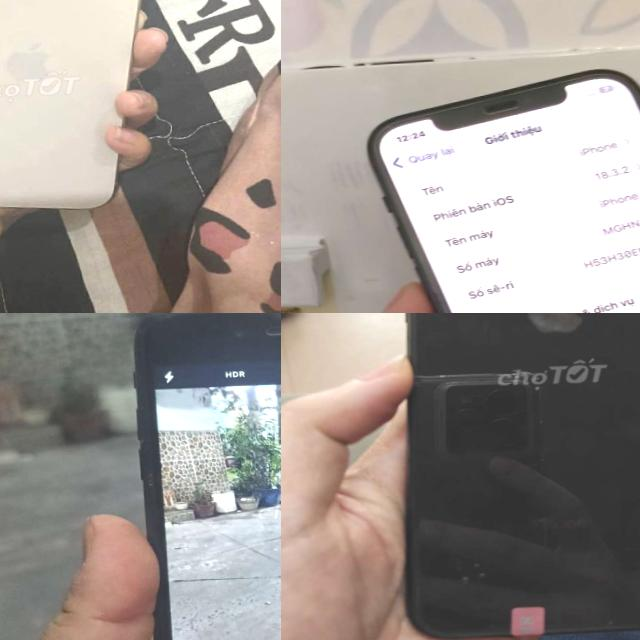gen_12_13: (362, 57, 640, 313), (0, 0, 170, 222)
gen_7_8: (116, 313, 281, 640)
gen_x_xs: (372, 313, 640, 640)
